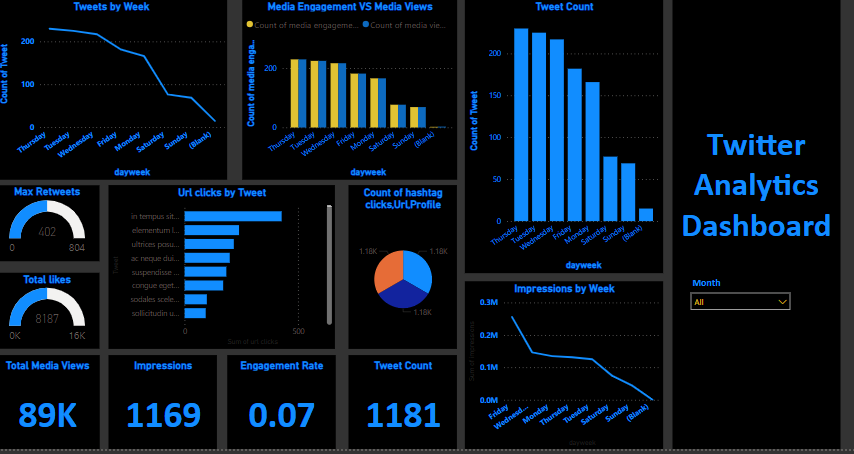

The dashboard page shown, as its layout file describes it:
{"tool":"powerbi","page":{"name":"Page 1","canvas":[1380,720],"ordinal":0},"visuals":[{"type":"textbox","box":[1084.3,0,268.6,720],"z":0},{"type":"card","title":"Total Media Views","fields":{"Values":["Sum(SocialMedia.media views)"]},"box":[0,570,167.1,150],"z":1000},{"type":"card","title":"Impressions","fields":{"Values":["CountNonNull(SocialMedia.media views)"]},"box":[182.9,570,172.9,150],"z":2000},{"type":"card","title":"Engagement Rate","fields":{"Values":["Avg(SocialMedia.engagement rate)"]},"box":[371.4,570,172.9,150],"z":3000},{"type":"card","title":"Tweet Count","fields":{"Values":["CountNonNull(SocialMedia.Tweet)"]},"box":[565.7,570,172.9,150],"z":4000},{"type":"gauge","title":"Total likes","fields":{"Y":["Sum(SocialMedia.likes)"]},"box":[0,438.6,167.1,121.4],"z":5000},{"type":"gauge","title":"Max Retweets","fields":{"Y":["Max(SocialMedia.retweets)"]},"box":[0,298.6,167.1,121.4],"z":6000},{"type":"slicer","title":"Month","fields":{"Values":["SocialMedia.Monthname"]},"box":[1101.4,438.6,181.4,64.3],"z":7000},{"type":"lineChart","title":"Tweets by Week","fields":{"Category":["SocialMedia.dayweek"],"Y":["CountNonNull(SocialMedia.Tweet)"]},"box":[0,0,371.4,288.6],"z":8000},{"type":"lineChart","title":"Impressions by Week","fields":{"Category":["SocialMedia.dayweek"],"Y":["Sum(SocialMedia.impressions)"]},"box":[751.4,451.4,317.1,268.6],"z":9000},{"type":"clusteredBarChart","title":" Url clicks by Tweet","fields":{"Y":["Sum(SocialMedia.url clicks)"],"Category":["SocialMedia.Tweet"]},"box":[182.9,298.6,361.4,261.4],"z":10000},{"type":"pieChart","title":"Count of hashtag clicks,Url,Profile","fields":{"Y":["CountNonNull(SocialMedia.hashtag clicks)","CountNonNull(SocialMedia.url clicks)","CountNonNull(SocialMedia.user profile clicks)"]},"box":[565.7,298.6,172.9,261.4],"z":11000},{"type":"clusteredColumnChart","title":"Media Engagement VS Media Views","fields":{"Y":["CountNonNull(SocialMedia.media engagements)","CountNonNull(SocialMedia.media views)"],"Category":["SocialMedia.dayweek"]},"box":[395.7,0,342.9,288.6],"z":12000},{"type":"clusteredColumnChart","title":"Tweet Count","fields":{"Category":["SocialMedia.dayweek"],"Y":["CountNonNull(SocialMedia.Tweet)"]},"box":[751.4,0,317.1,438.6],"z":12001}]}

Visuals, with their boxes in screenshot pixels (x1, y1, x2, y2), scaled from the page's 1380x720 canvas onto the 854x454 screenshot:
textbox: (671, 0, 837, 453)
"Total Media Views" card: (0, 359, 103, 453)
"Impressions" card: (113, 359, 220, 453)
"Engagement Rate" card: (230, 359, 337, 453)
"Tweet Count" card: (350, 359, 457, 453)
"Total likes" gauge: (0, 277, 103, 353)
"Max Retweets" gauge: (0, 188, 103, 265)
"Month" slicer: (682, 277, 794, 317)
"Tweets by Week" lineChart: (0, 0, 230, 182)
"Impressions by Week" lineChart: (465, 285, 661, 453)
" Url clicks by Tweet" clusteredBarChart: (113, 188, 337, 353)
"Count of hashtag clicks,Url,Profile" pieChart: (350, 188, 457, 353)
"Media Engagement VS Media Views" clusteredColumnChart: (245, 0, 457, 182)
"Tweet Count" clusteredColumnChart: (465, 0, 661, 277)
